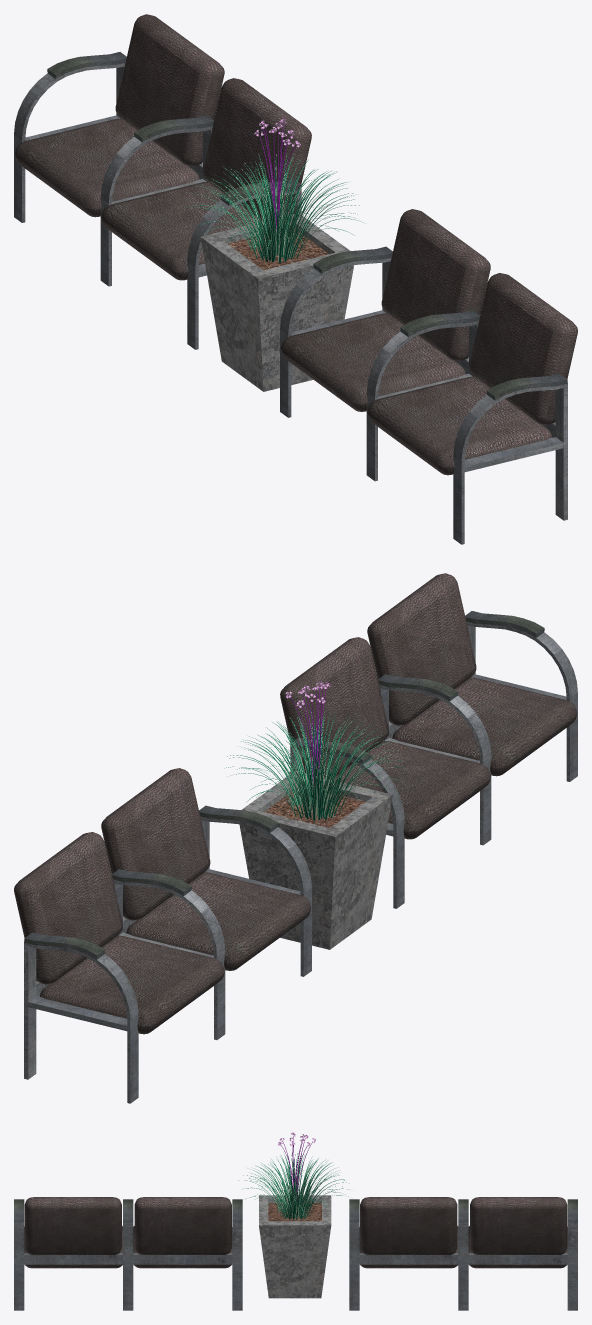
3 renders of one model, top to bottom at view 1: azimuth 30°, elevation 25°; view 2: azimuth 150°, elevation 25°; view 3: azimuth 270°, elevation 25°, orthographic. The views are drawn at different scales.
Visible parts, largest first — view 1: Box003, Box001, Box002, Foliage001; view 2: Box001, Box003, Box002, Foliage001; view 3: Box001, Box003, Box002, Foliage001.
Boxes of the visible parts, box(x1,y1,x2,y2) form: Box003: box(280, 209, 577, 544); Box001: box(14, 14, 311, 349); Box002: box(200, 214, 353, 391); Foliage001: box(186, 118, 363, 262); Box001: box(14, 768, 311, 1103); Box003: box(280, 573, 577, 908); Box002: box(239, 771, 392, 949); Foliage001: box(224, 681, 405, 820); Box001: box(349, 1197, 577, 1310); Box003: box(14, 1197, 242, 1310); Box002: box(259, 1195, 331, 1298); Foliage001: box(238, 1132, 350, 1220).
Size of the model in its own units: 34.92 by 47.72 by 156.
Materials: 5 (3 with a texture image).
